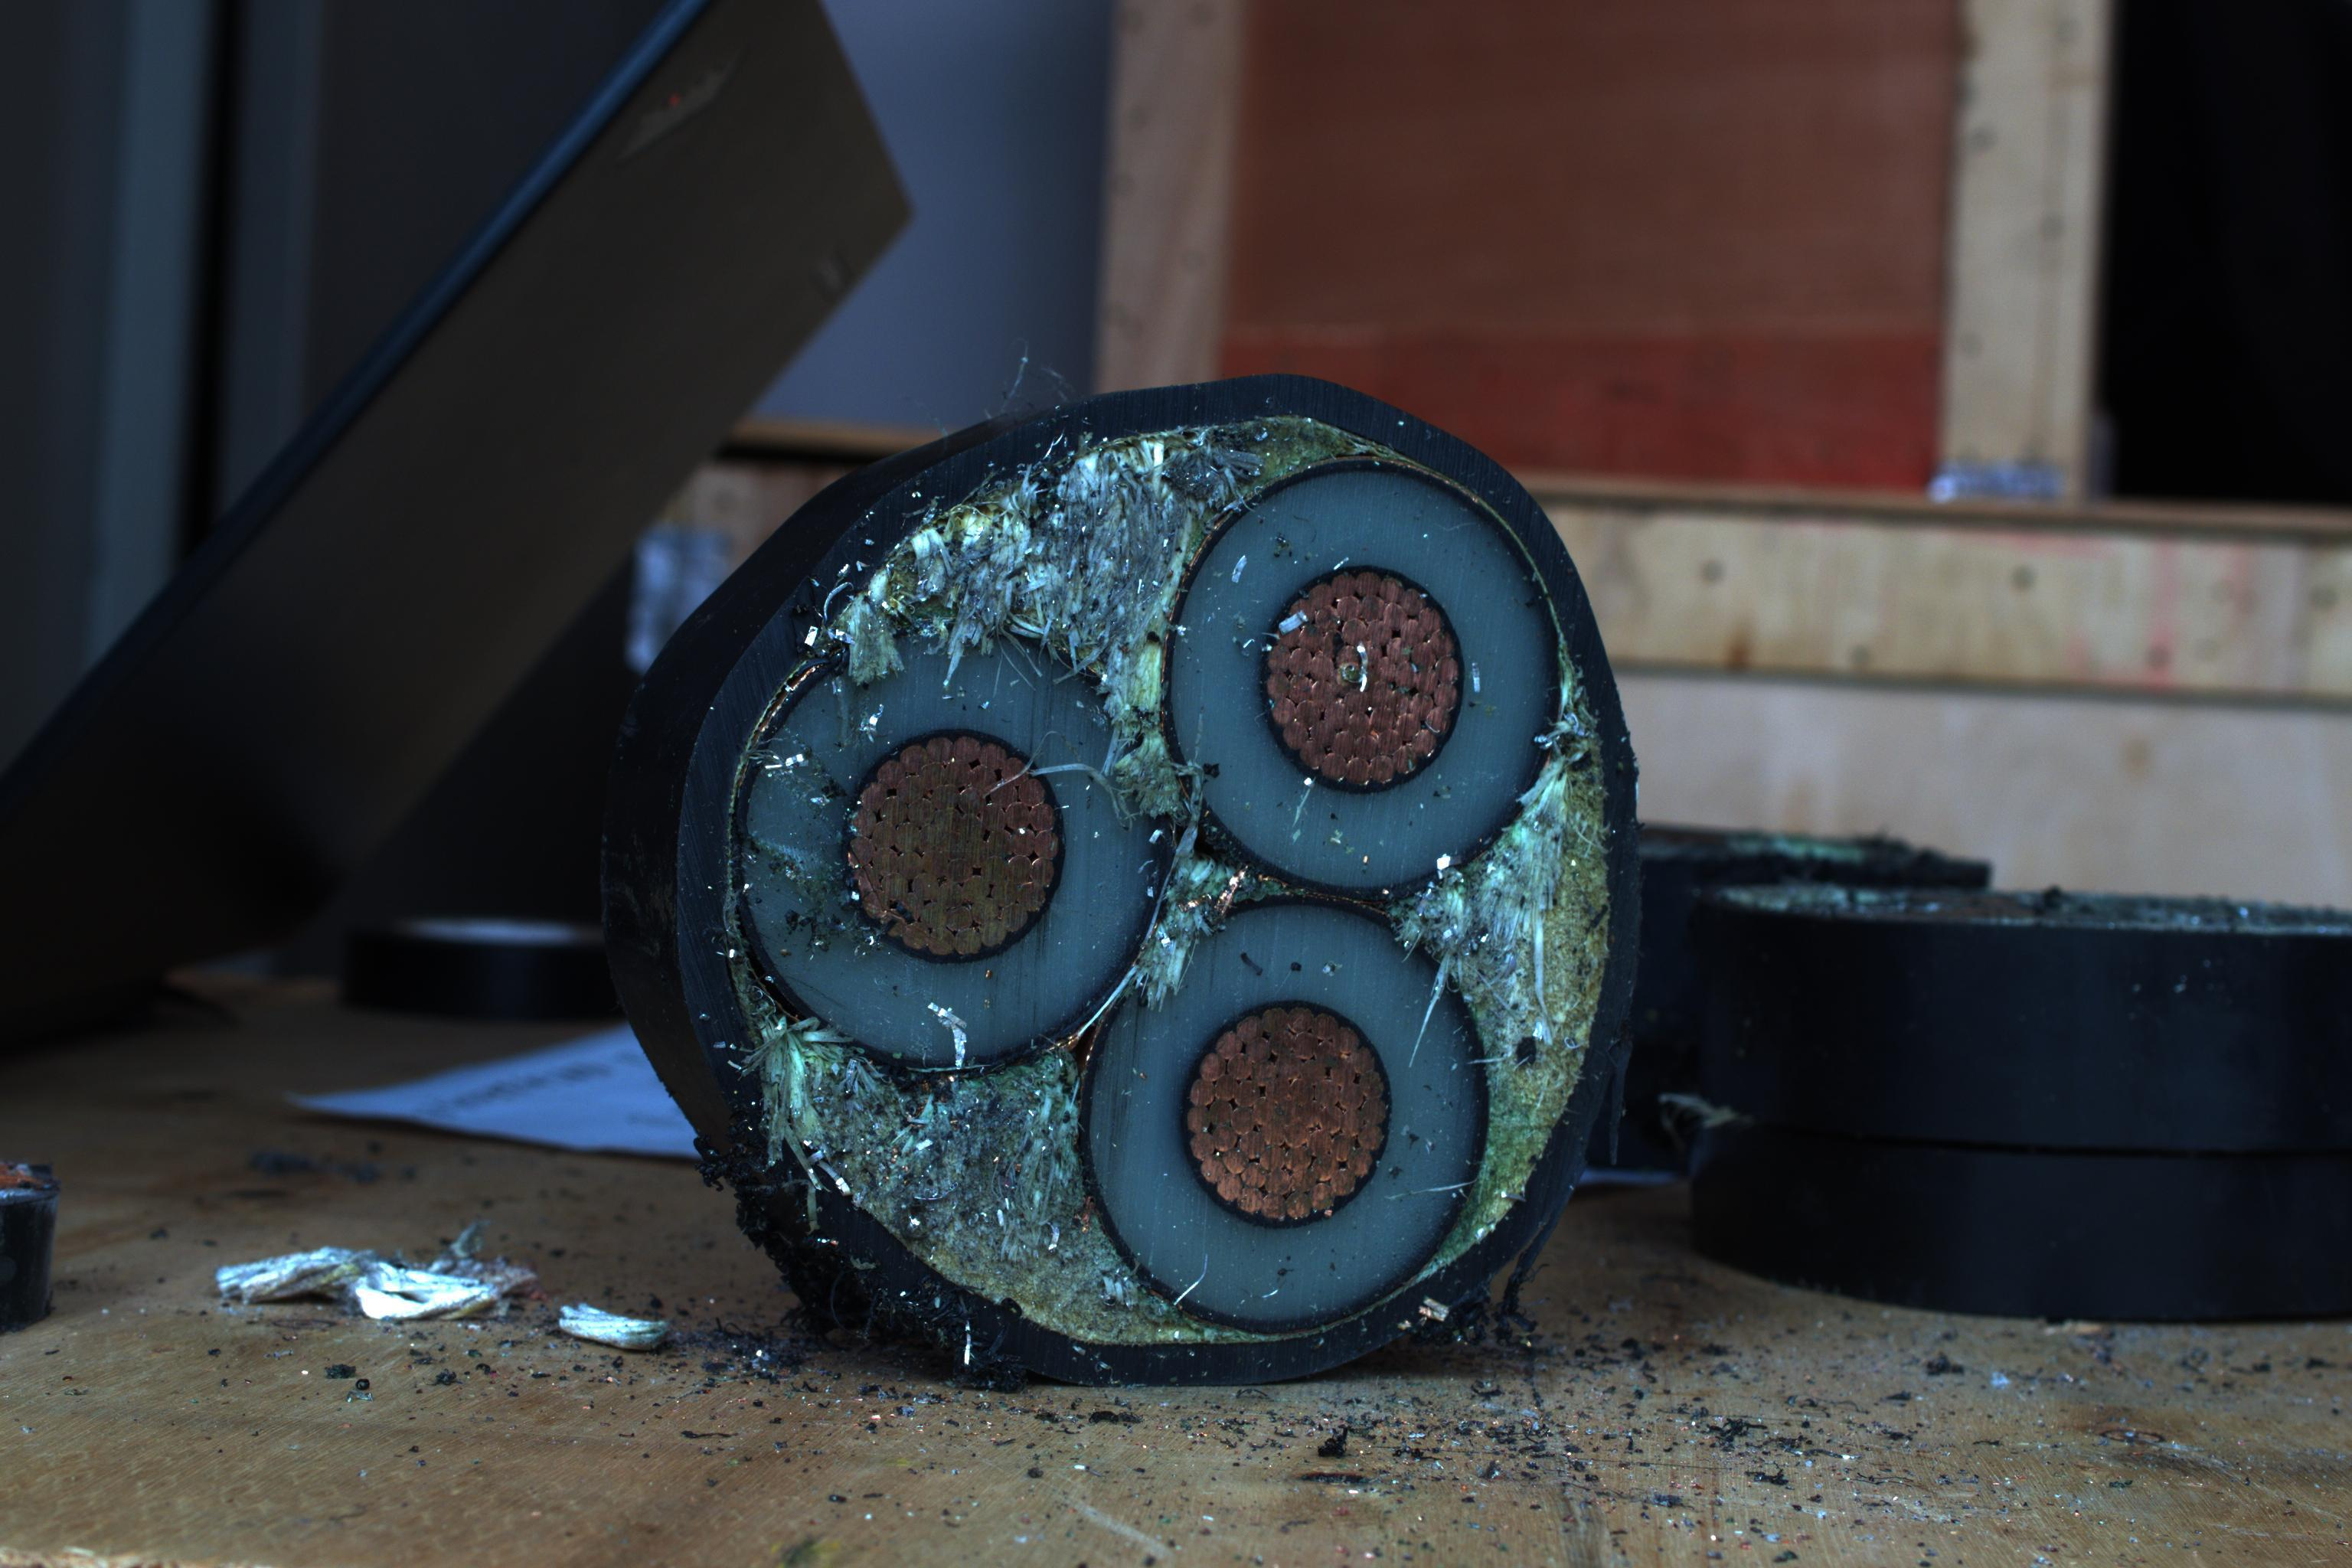ZA_YJV_26_35kV_3x400: (663, 404, 1643, 1356)
